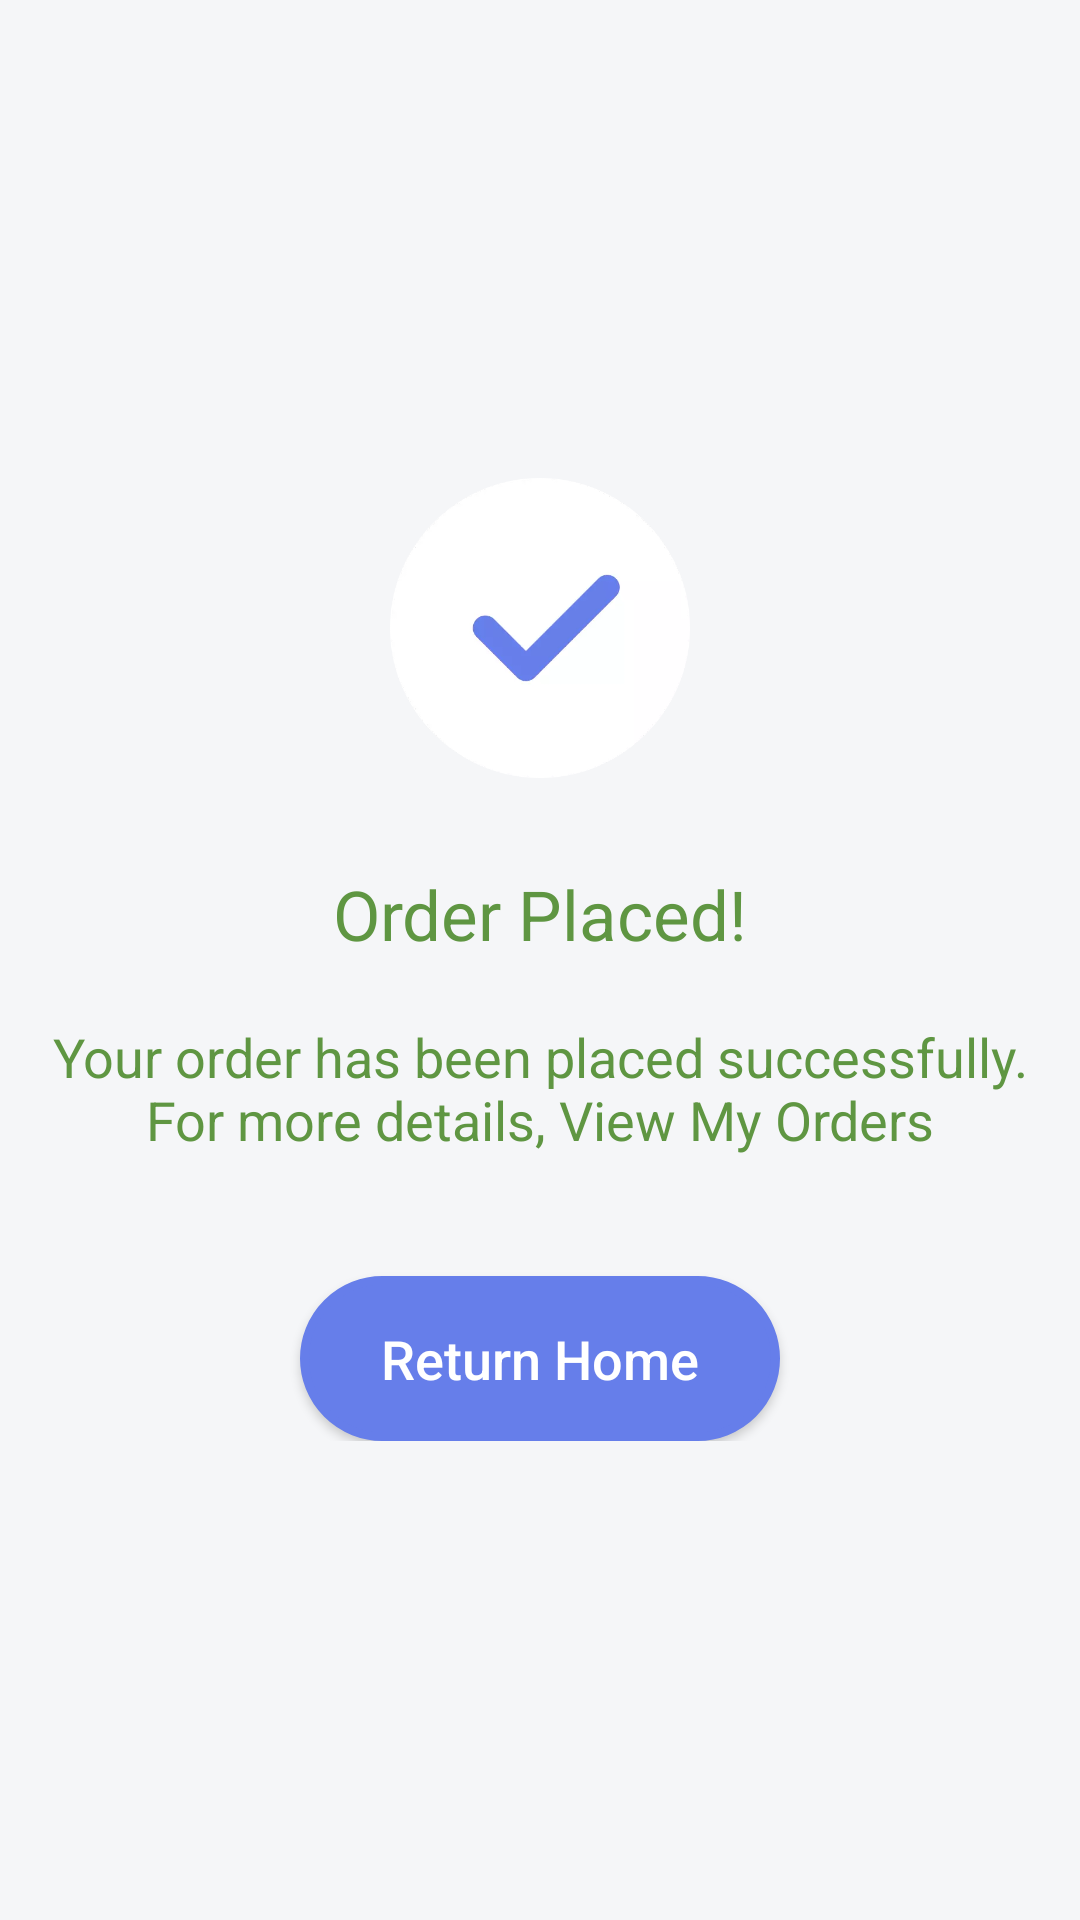

Icons on this 1080*1920 Android screen, each with its box as (x1, y1, x2, y2):
check: (390, 478, 690, 778)
